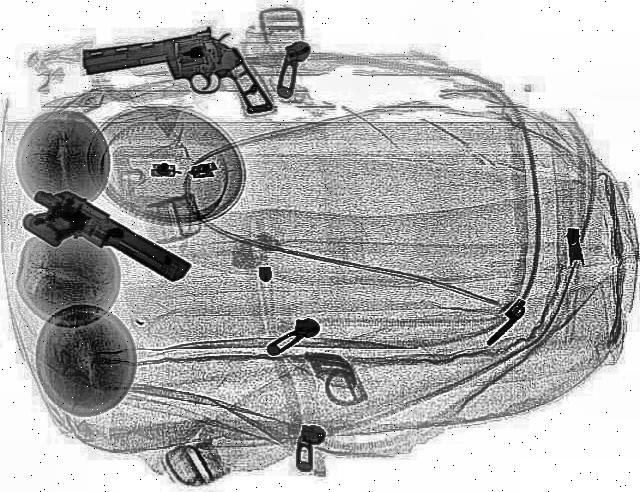Gun: (4, 182, 198, 304), (76, 23, 274, 137)
